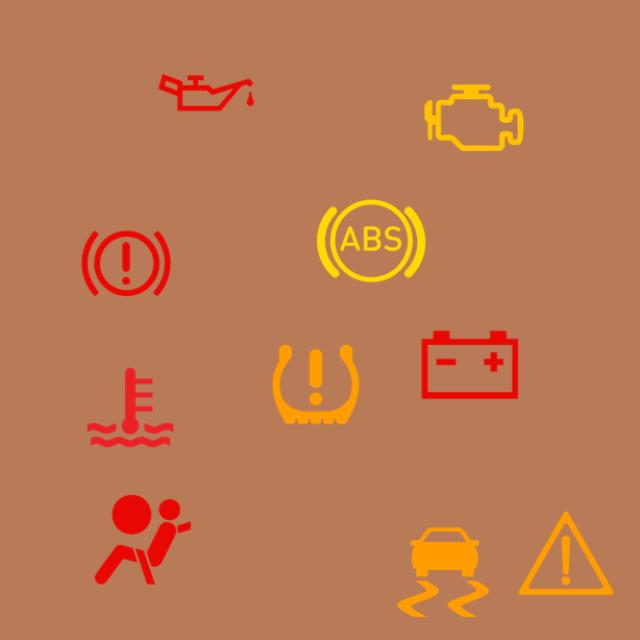Anti Lock Braking System: (312, 182, 431, 300)
Braking System Issue: (66, 204, 186, 323)
Charging System Issue: (410, 306, 530, 424)
Check Engine: (415, 59, 534, 178)
Electronic Stability Problem -ESP-: (383, 512, 502, 632)
Engine Overheating Warning Light: (71, 348, 190, 467)
Low Engine Oil Warning Light: (147, 34, 266, 152)
Low Tire Pressure Warning Light: (256, 325, 376, 444)
Master warning light: (506, 494, 626, 613)
SRS-Airbag: (84, 480, 202, 600)
